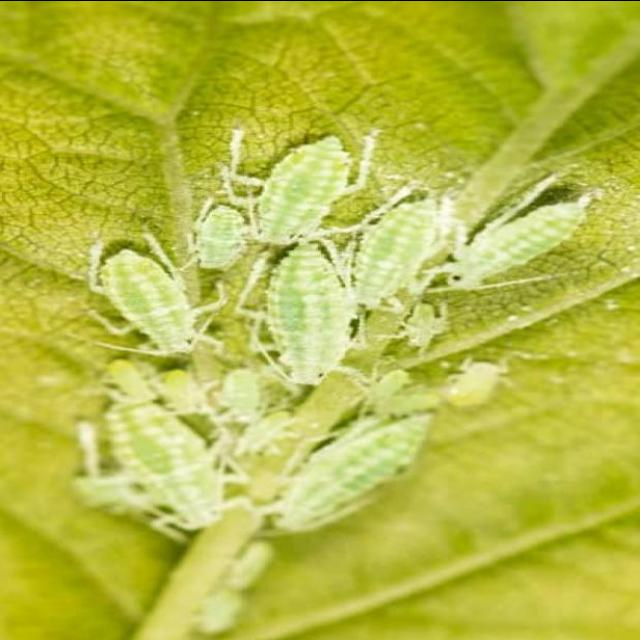Aphids: (58, 101, 618, 552)
